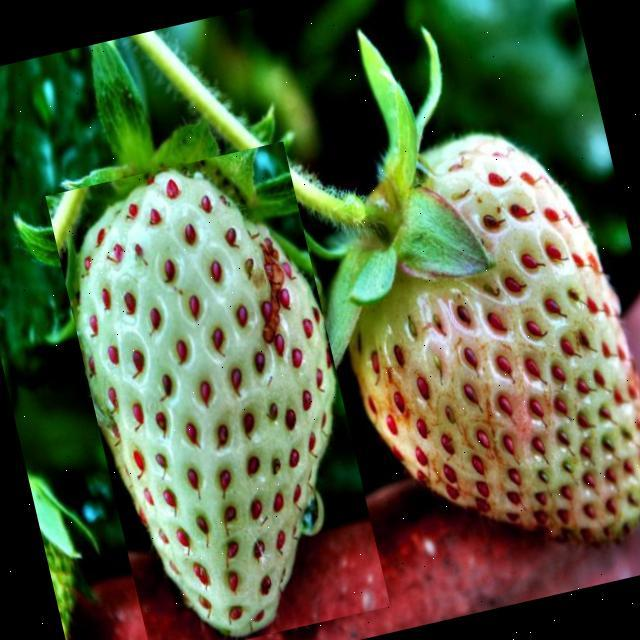unripe: (44, 141, 389, 640), (307, 110, 640, 585)
